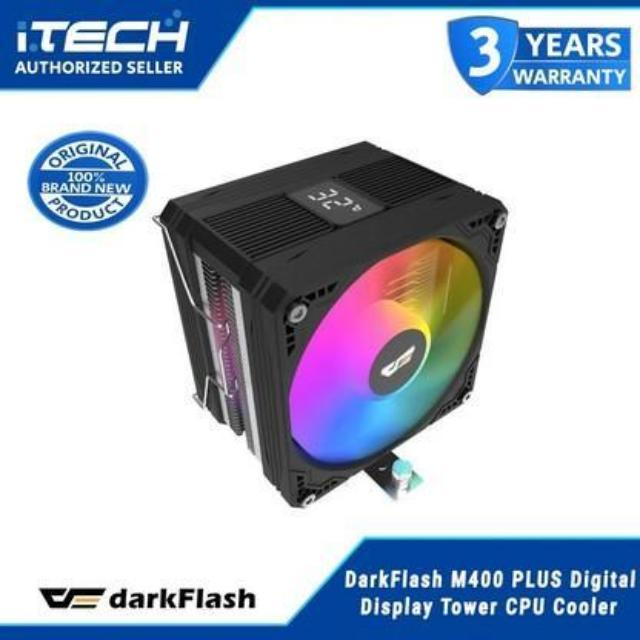CPU_Fan: (145, 128, 503, 508)
